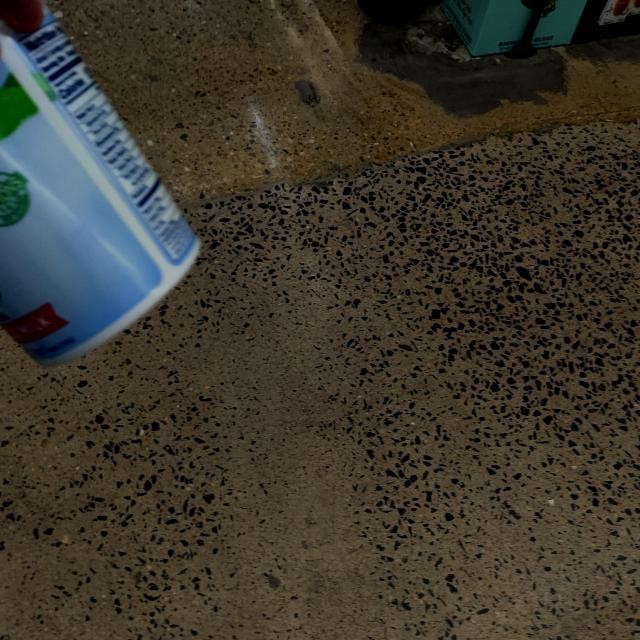Yoghurt: (0, 0, 204, 363)
